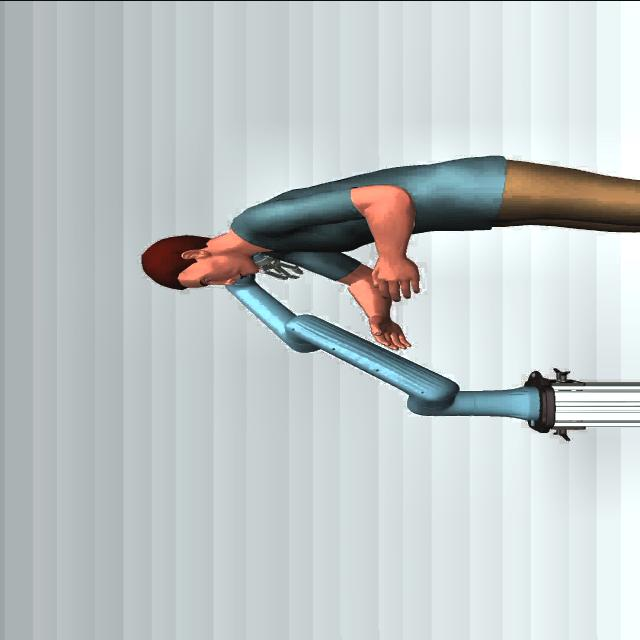human: (140, 154, 638, 350)
robot: (222, 252, 637, 440)
